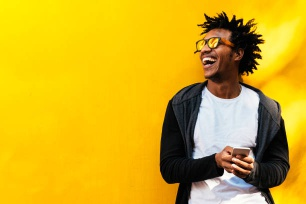male: (191, 19, 240, 82)
